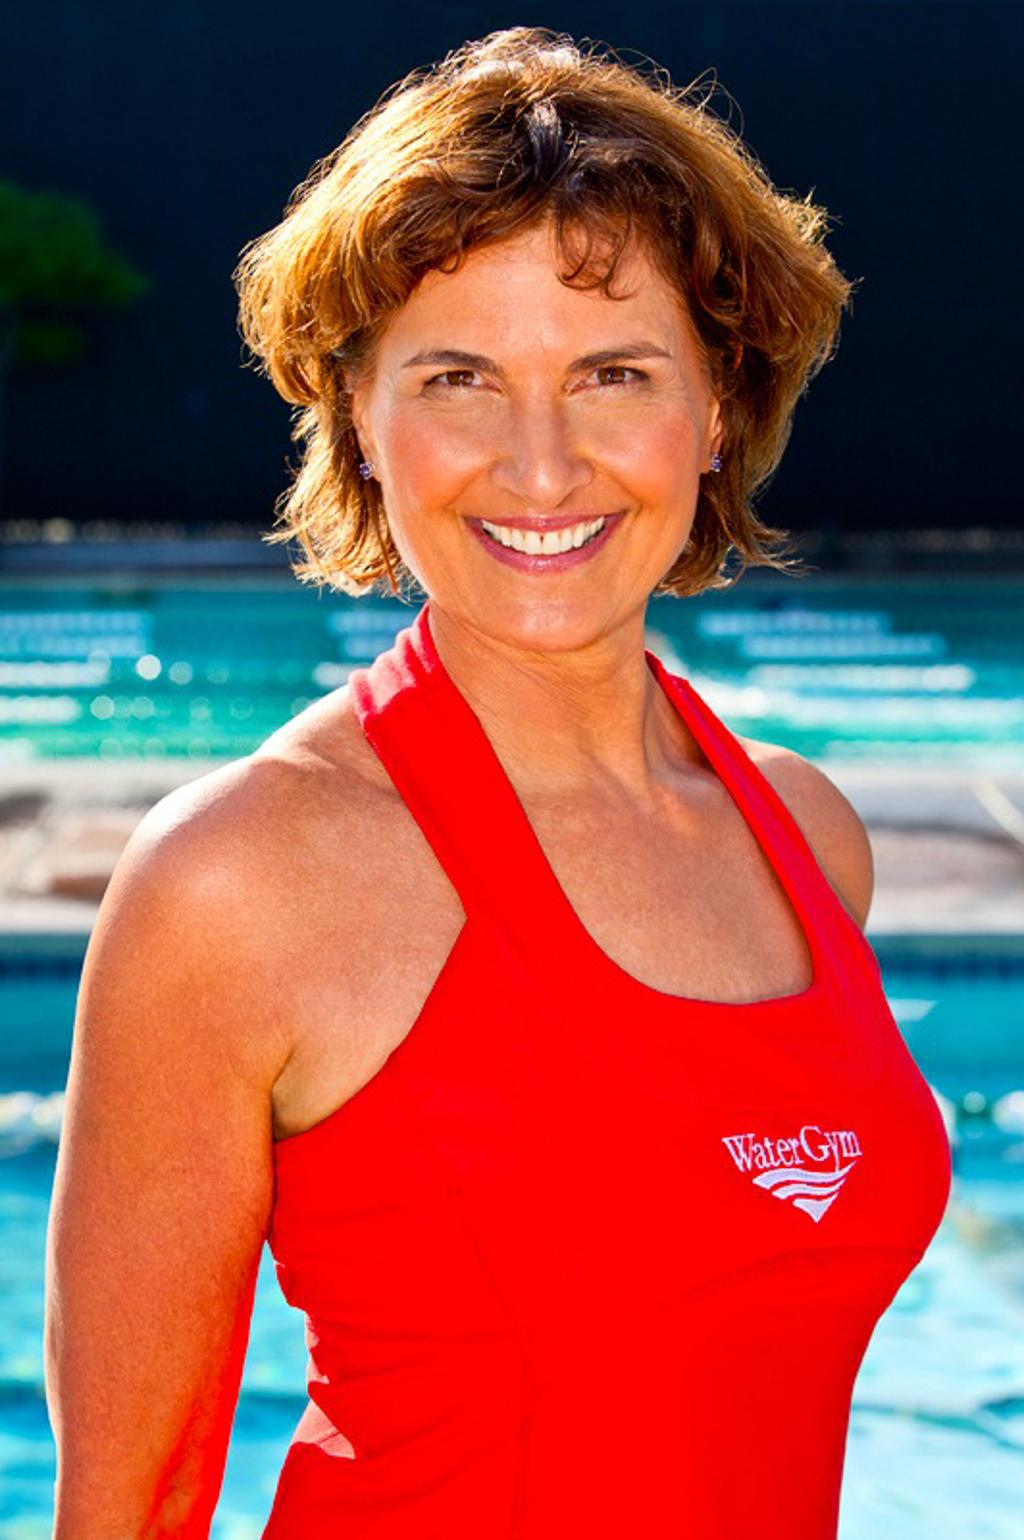face: (362, 215, 708, 661)
